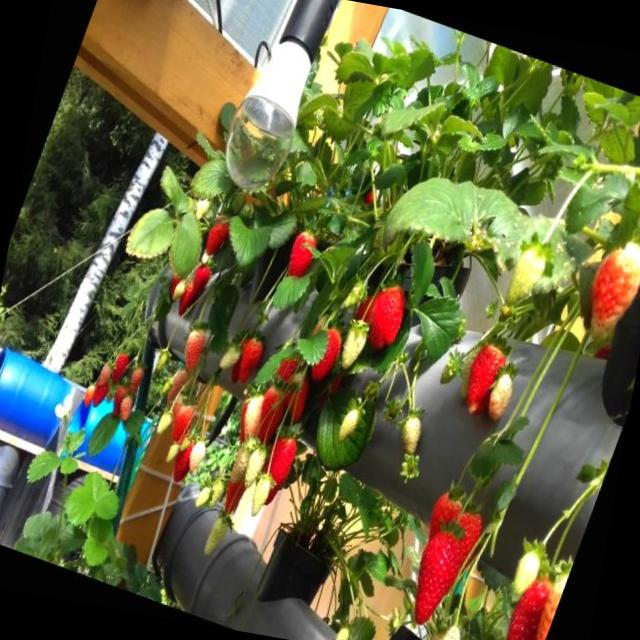ripe: (398, 520, 473, 632), (486, 566, 566, 640), (454, 333, 512, 420), (434, 498, 490, 582), (358, 278, 413, 354), (418, 482, 466, 560), (254, 426, 302, 496), (272, 358, 318, 428), (279, 224, 325, 288), (248, 377, 290, 443), (306, 320, 346, 386), (230, 332, 268, 393), (163, 430, 197, 488), (200, 208, 237, 260), (185, 259, 215, 302), (172, 272, 200, 318), (106, 346, 132, 382), (86, 372, 110, 408)
